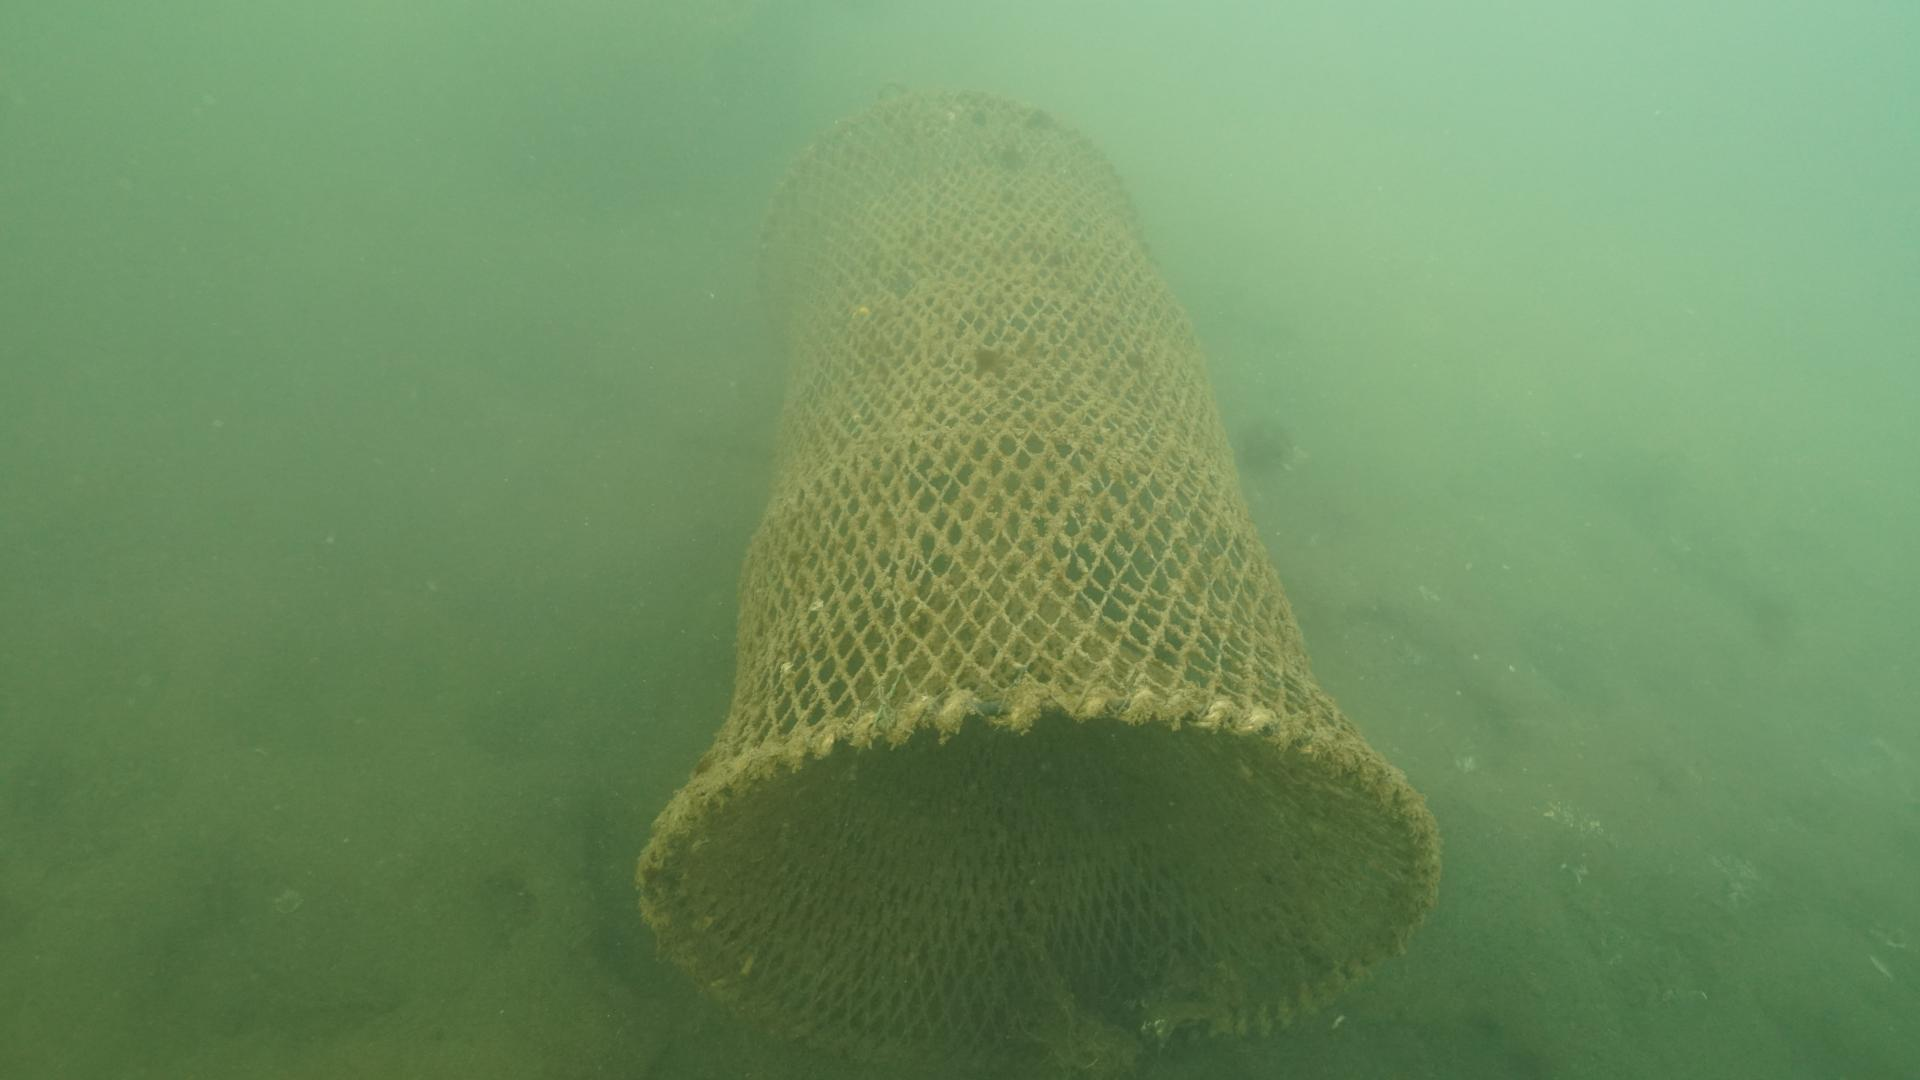spring fish trap: (629, 83, 1452, 1080)
